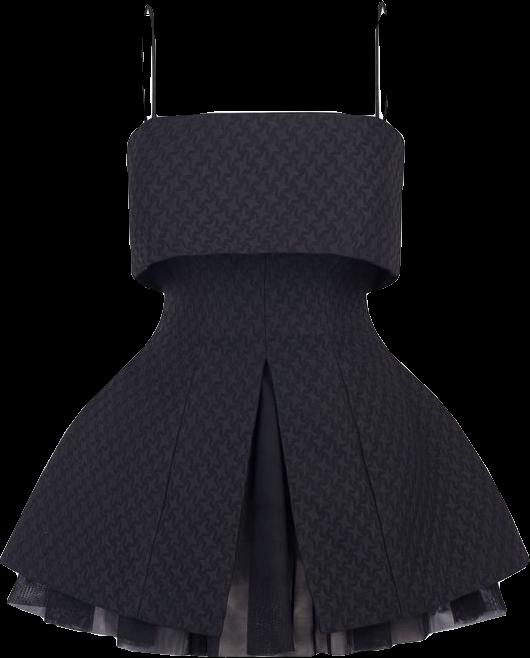Bodice: (126, 110, 404, 280)
Hemline: (0, 357, 529, 639), (6, 598, 509, 657)
Neckline: (125, 103, 404, 144)
Skirt: (0, 254, 529, 656)
Waistline: (134, 249, 403, 282)
